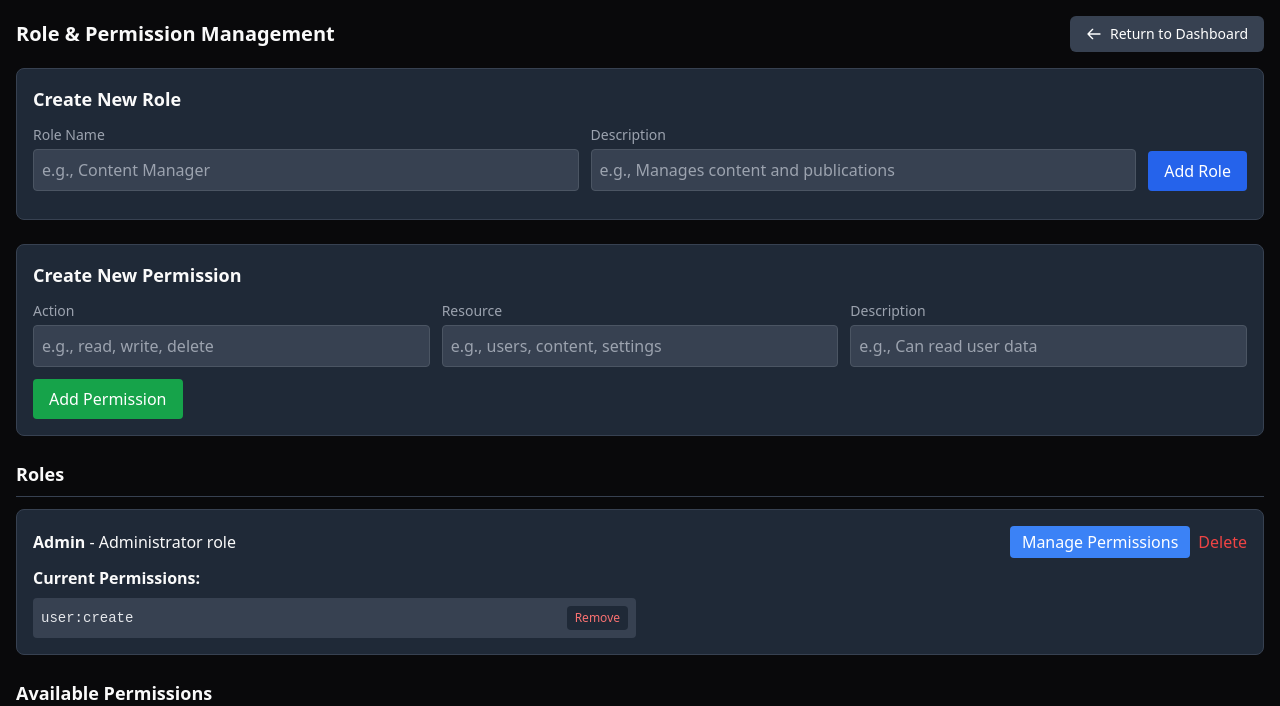
Test: RoleManagement › deletes a role
Expected: the text "Admin" is shown, [33,531,85,553]
Click the button "Delete" at point(1223, 542), box [1198,530,1247,554]
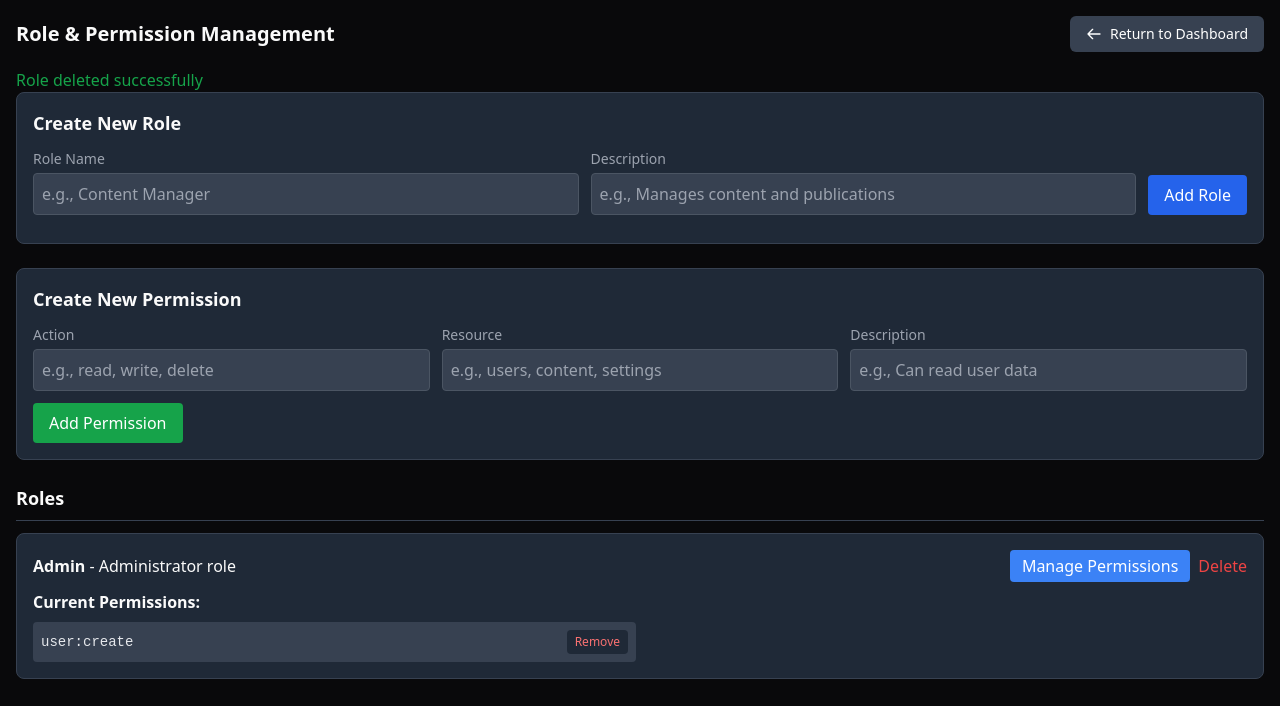
Now the text "Role deleted successfully" is shown, box [16,69,203,91]
